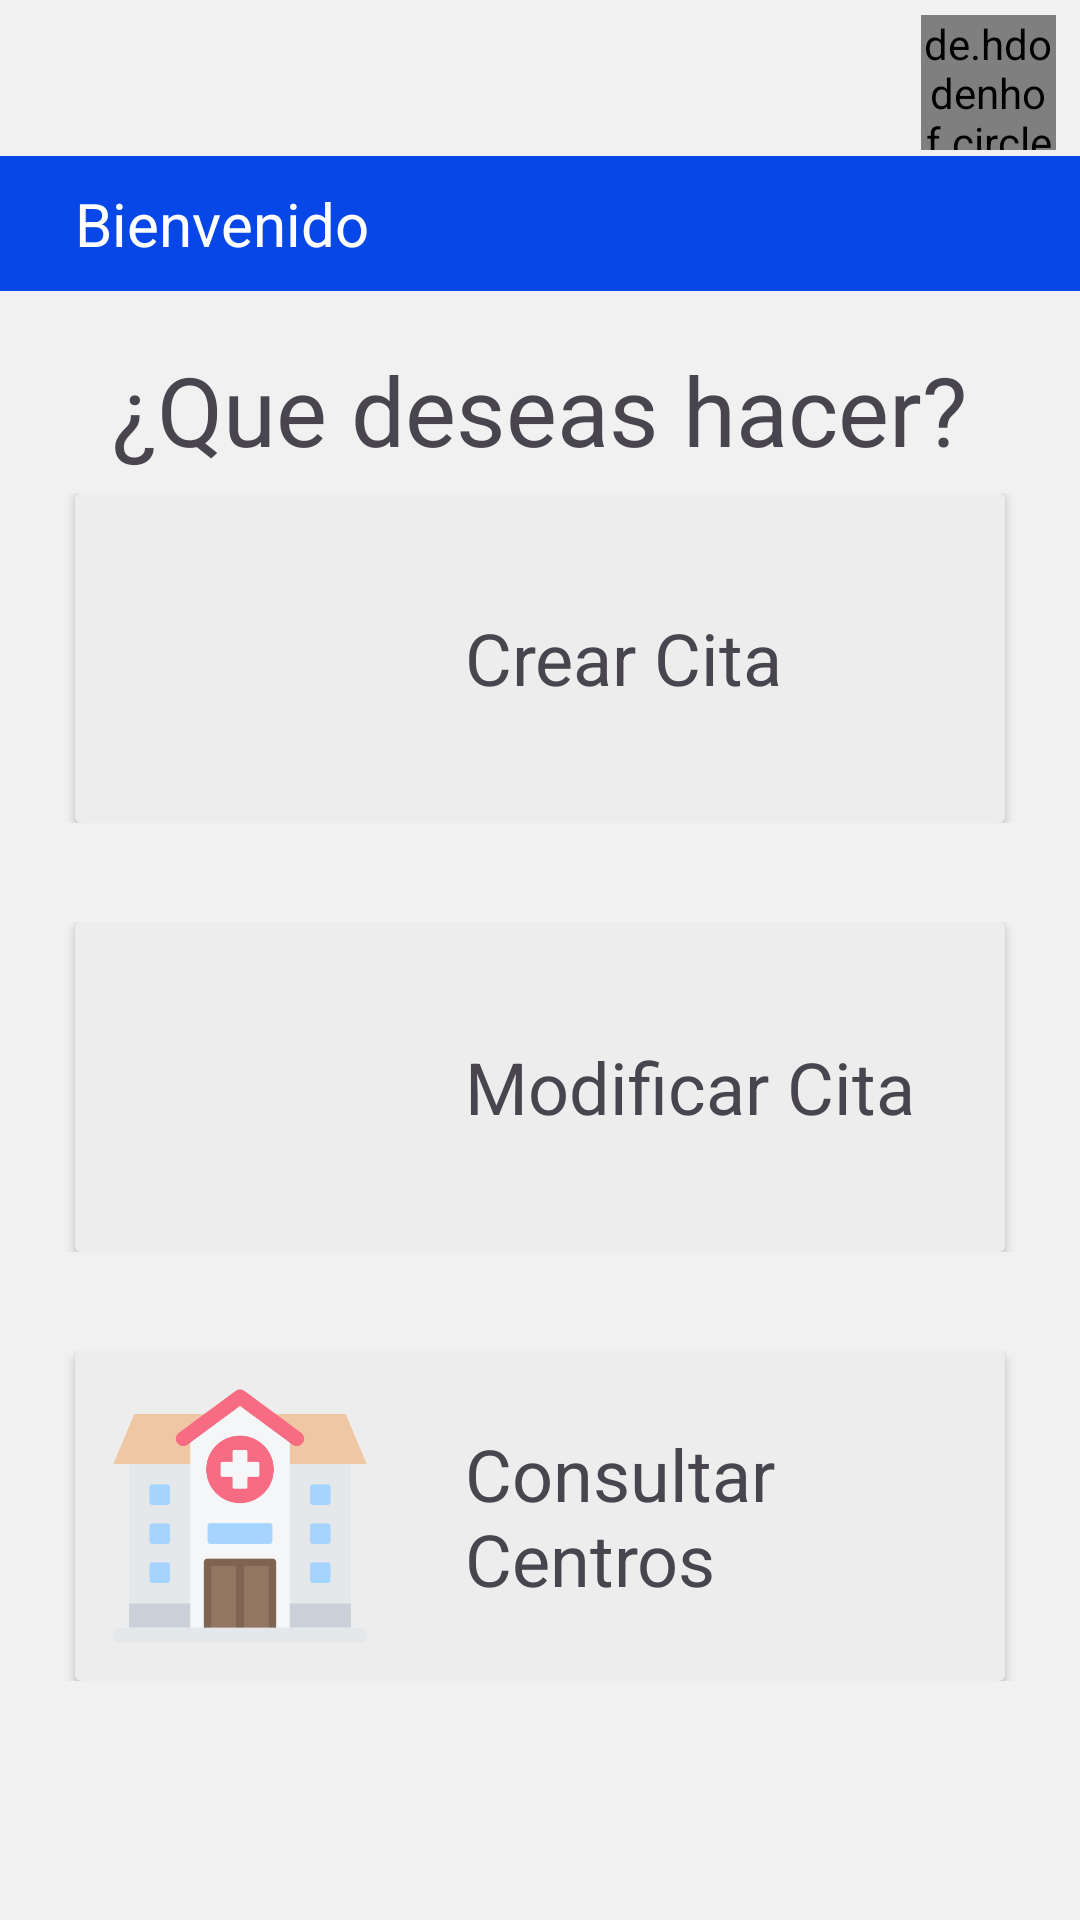

Icon click points for this 1080x1920 phone screenshot, format point (x, y):
clinica: point (221, 1535)
